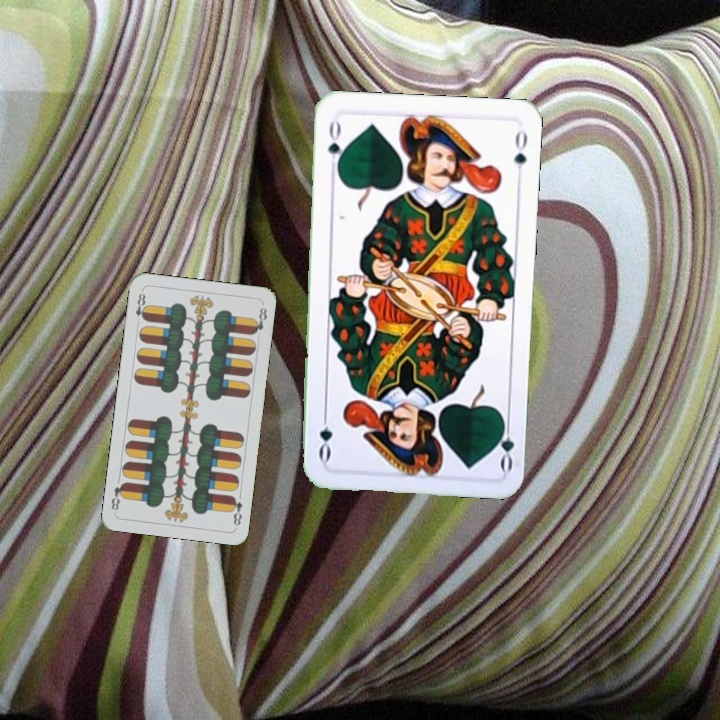E8: (131, 287, 150, 327), (226, 492, 245, 528)
GO: (491, 413, 517, 473), (323, 115, 346, 175)
